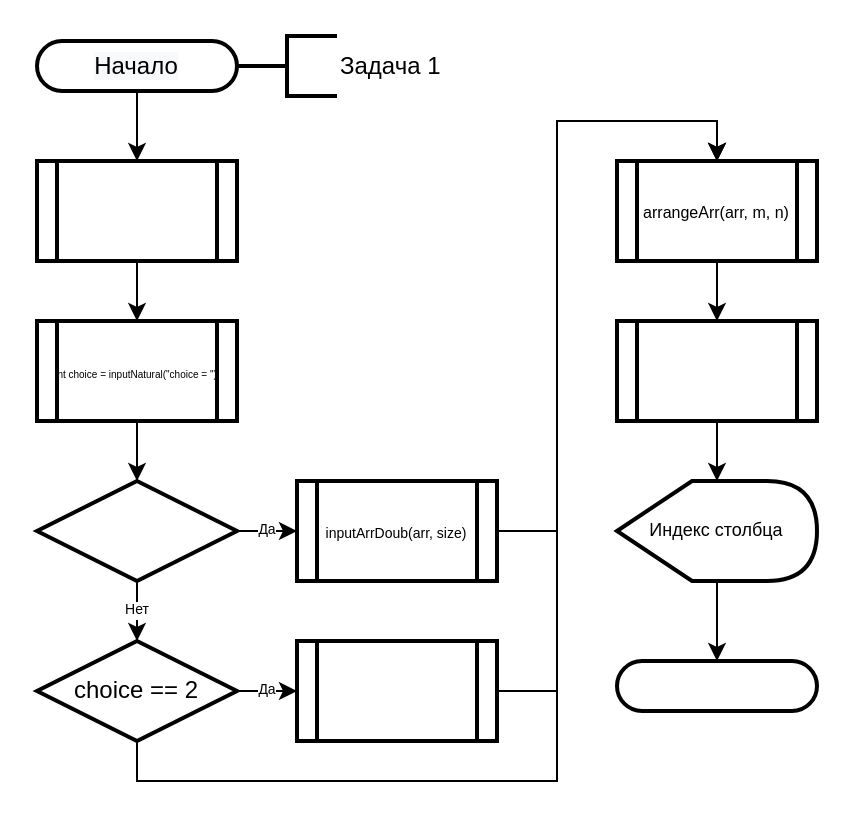
The diagram is 852 pixels wide and 832 high, and some of its shapes have lost their labels. The shapes that lost their labels are listed below. From the top down, each one's centre as x and y in pixels, then its label:
point (136, 210): m = inputNatural("m = ") n = inputNatural("n =")
point (716, 370): findIndex(arr, m, n)
point (136, 530): choice == 1
point (396, 690): randArrDoub(arr, size)
point (716, 685): Конец
